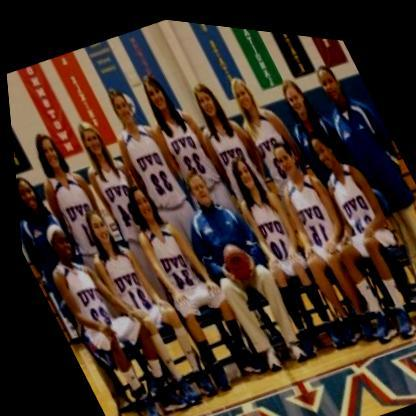basketball: (210, 230, 257, 282)
